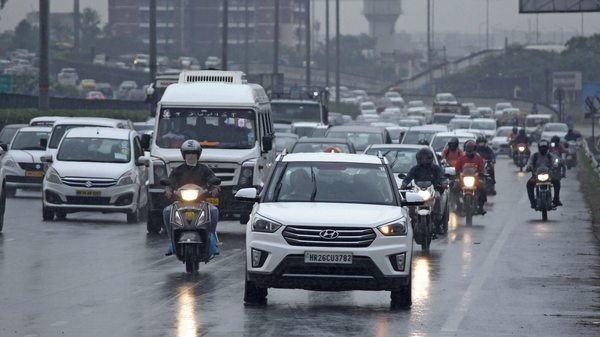car: (251, 153, 411, 312), (144, 73, 273, 240), (40, 124, 145, 227), (1, 124, 54, 193)
two_wheeler: (169, 139, 230, 290), (403, 148, 450, 258), (525, 141, 564, 226), (452, 139, 489, 222), (513, 129, 528, 173)
